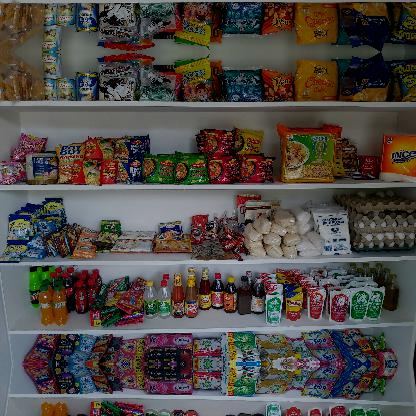Lady-s-Choice: (26, 152, 58, 184)
